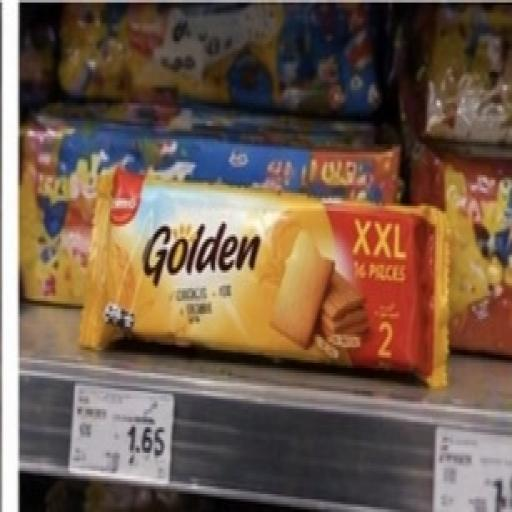golden: (75, 148, 460, 449)
